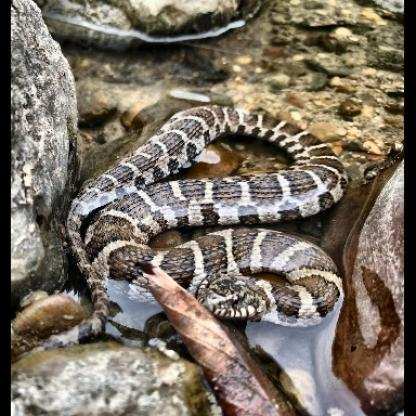Snake: (65, 103, 349, 327)
